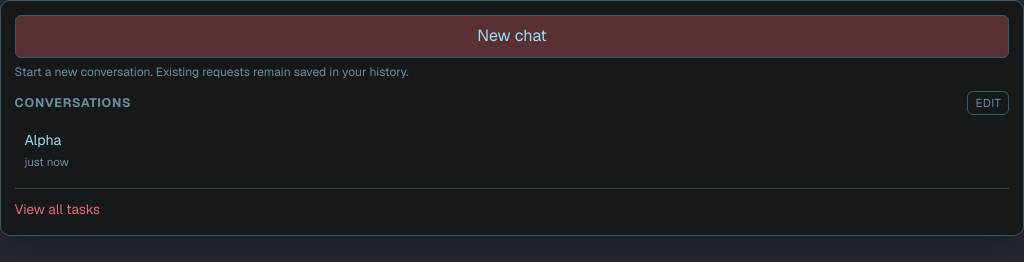
Test: Nexus Chat conversation deletion UI › shows edit toggle beside Conversations and delete controls in edit mode
Step 1. Click the button with aria-label "Edit conversations" → (988, 103), box [967,91,1009,115]
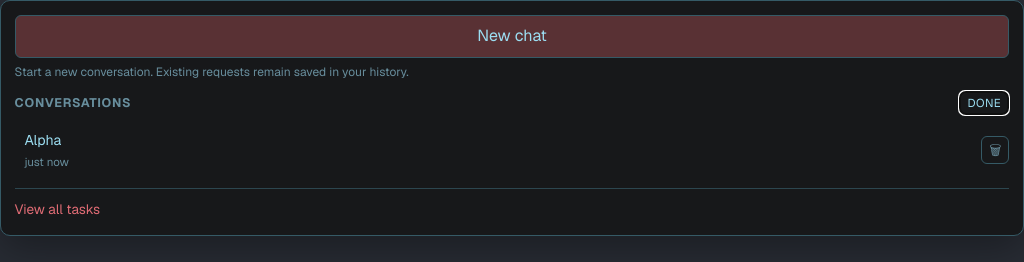
Expected: the button named "Delete conversation Alpha" is shown, [981,136,1009,164]
